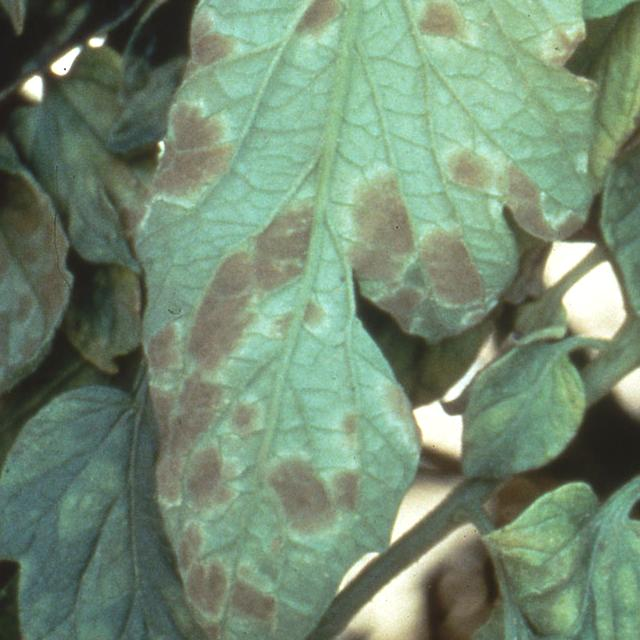Tomato mold leaf: (117, 0, 597, 640), (459, 480, 640, 640)
